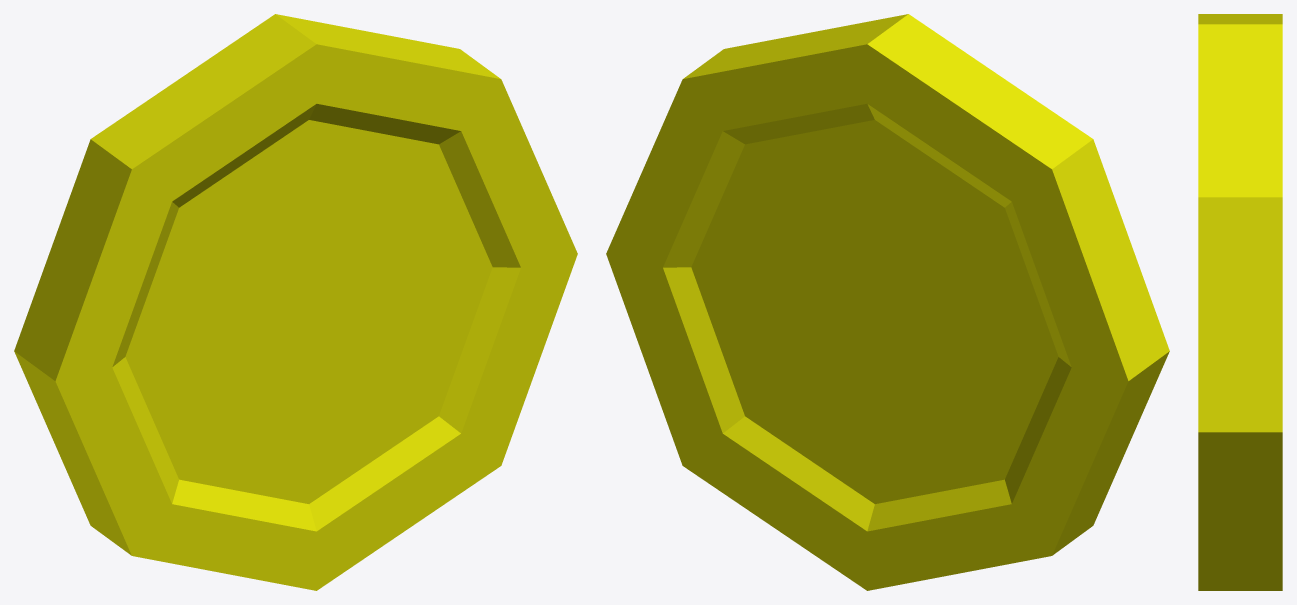
The model's file is SM_PolygonPrototype_Icon_Coin_01.glb.
3 views of the same model, side by side, from view 1: azimuth 30°, elevation 25°; view 2: azimuth 150°, elevation 25°; view 3: azimuth 270°, elevation 25° (orthographic).
Parts seen in each view (by area): view 1: SM_PolygonPrototype_Icon_Coin_01; view 2: SM_PolygonPrototype_Icon_Coin_01; view 3: SM_PolygonPrototype_Icon_Coin_01.
Part boxes in pixels (<box>): SM_PolygonPrototype_Icon_Coin_01: <box>14,14,577,590</box>; SM_PolygonPrototype_Icon_Coin_01: <box>606,14,1169,590</box>; SM_PolygonPrototype_Icon_Coin_01: <box>1198,14,1282,590</box>.
Bounding box in the file's own units: 0.5882 × 0.5882 × 0.0806.
Materials: 1 (1 with a texture image).
